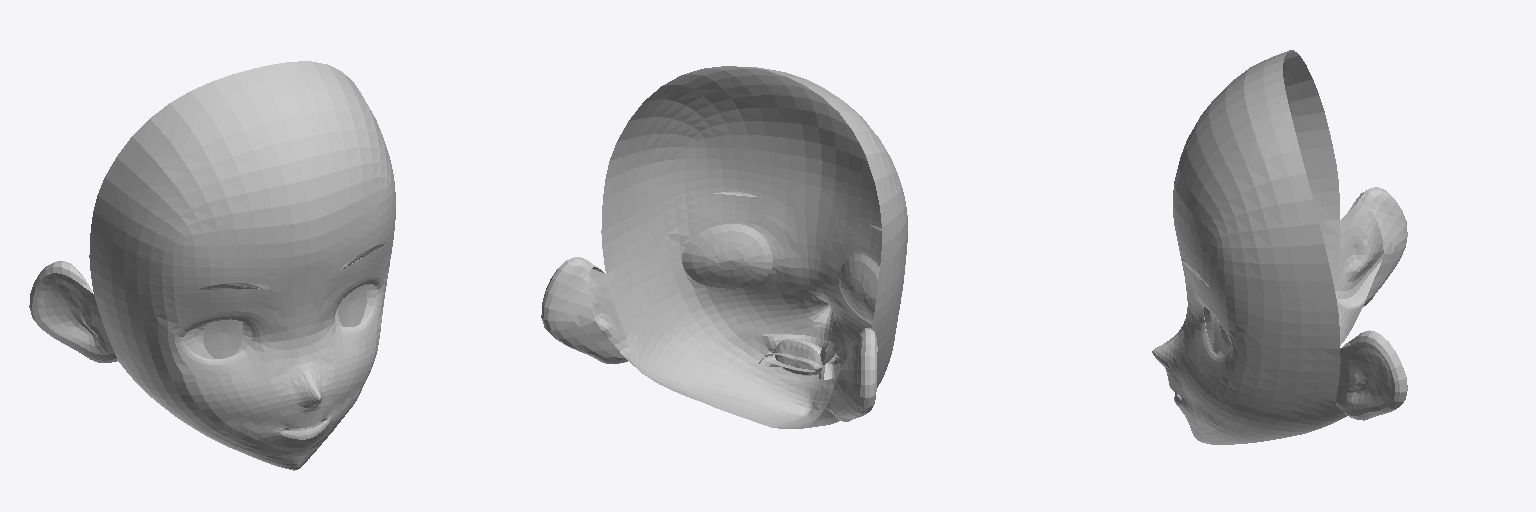
The model's file is jawForward.obj.
3 renders of one model, left to right at view 1: azimuth 30°, elevation 25°; view 2: azimuth 150°, elevation 25°; view 3: azimuth 270°, elevation 25°, orthographic.
Parts seen in each view (by area): view 1: Face; view 2: Face; view 3: Face.
Boxes of the visible parts, x1,y1,x2,y2 form: Face: [29, 61, 395, 470]; Face: [541, 66, 907, 428]; Face: [1152, 50, 1407, 444].
Bounding box in the file's own units: 0.2176 × 0.2333 × 0.1449.